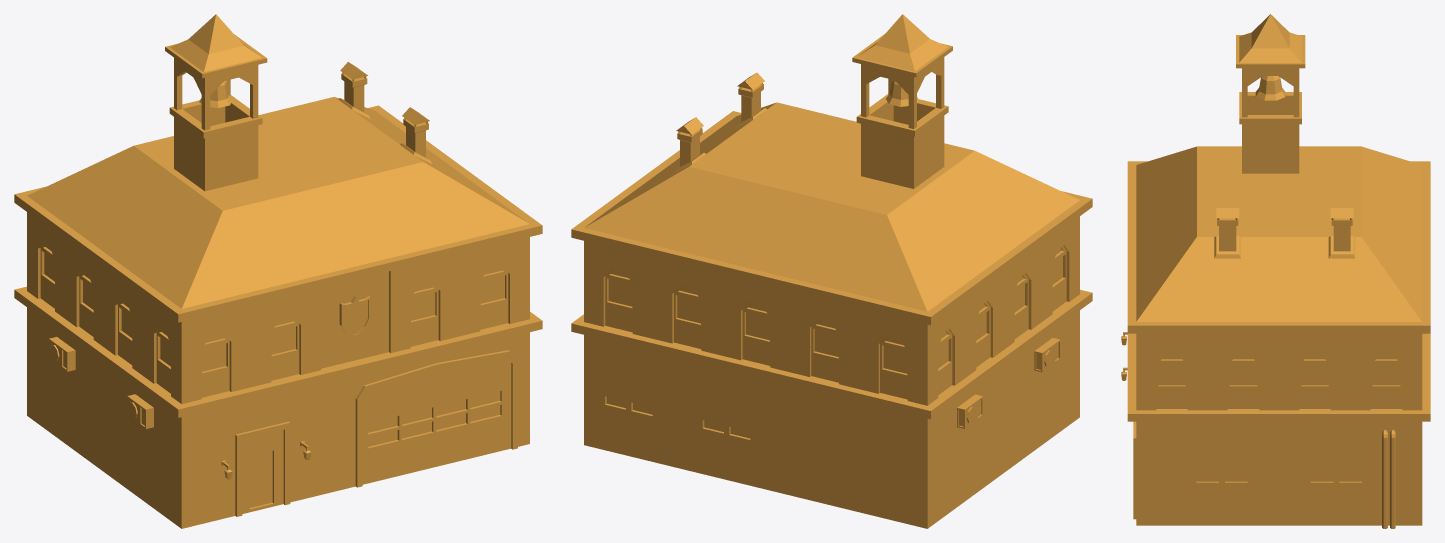
File: building-firestation.fbx
3 renders of one model, left to right at view 1: azimuth 30°, elevation 25°; view 2: azimuth 150°, elevation 25°; view 3: azimuth 270°, elevation 25°, orthographic. The views are drawn at different scales.
Visible parts, largest first — view 1: building-firestation; view 2: building-firestation; view 3: building-firestation.
Boxes of the visible parts, bbox=[...] form: building-firestation: bbox=[14, 14, 542, 528]; building-firestation: bbox=[571, 14, 1092, 528]; building-firestation: bbox=[1121, 14, 1430, 528].
Size of the model in its own units: 13.65 by 15.54 by 10.82.
